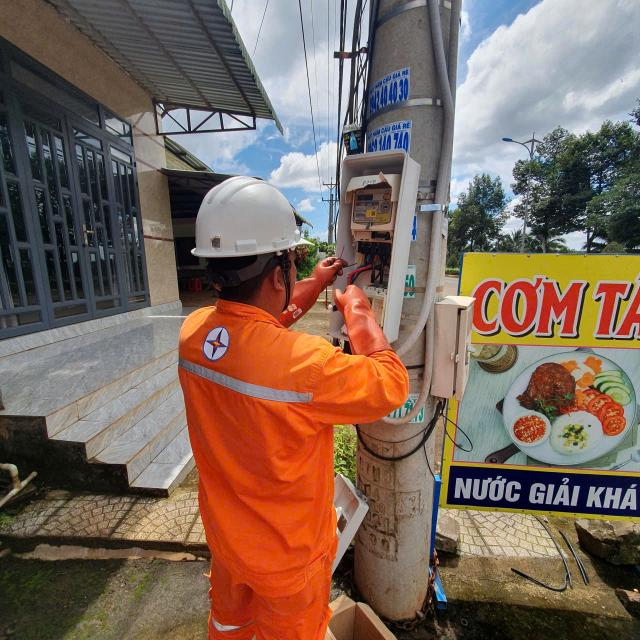gloves: (253, 253, 357, 321), (321, 282, 402, 360)
helmet: (168, 170, 328, 263)
